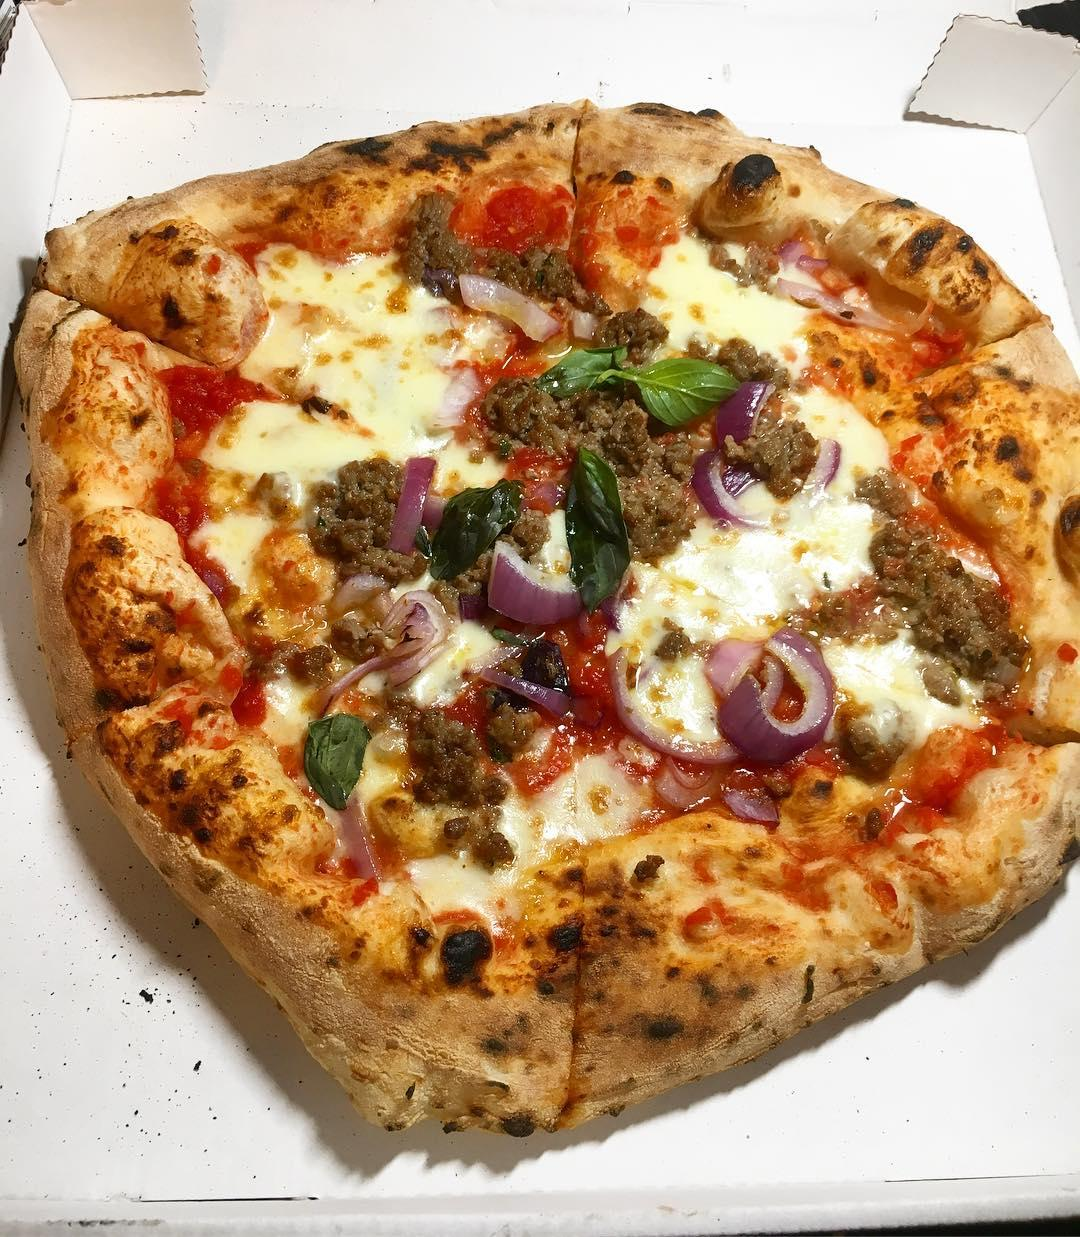Basil: (547, 339, 734, 423), (557, 445, 634, 607), (431, 484, 519, 567), (303, 710, 371, 803)
Onion: (707, 385, 844, 518), (594, 650, 732, 772), (761, 245, 913, 340), (711, 638, 847, 737), (340, 579, 444, 702), (484, 538, 579, 626), (454, 271, 562, 341), (386, 453, 431, 559), (477, 666, 570, 716)
Pizza: (20, 125, 1080, 1118)
